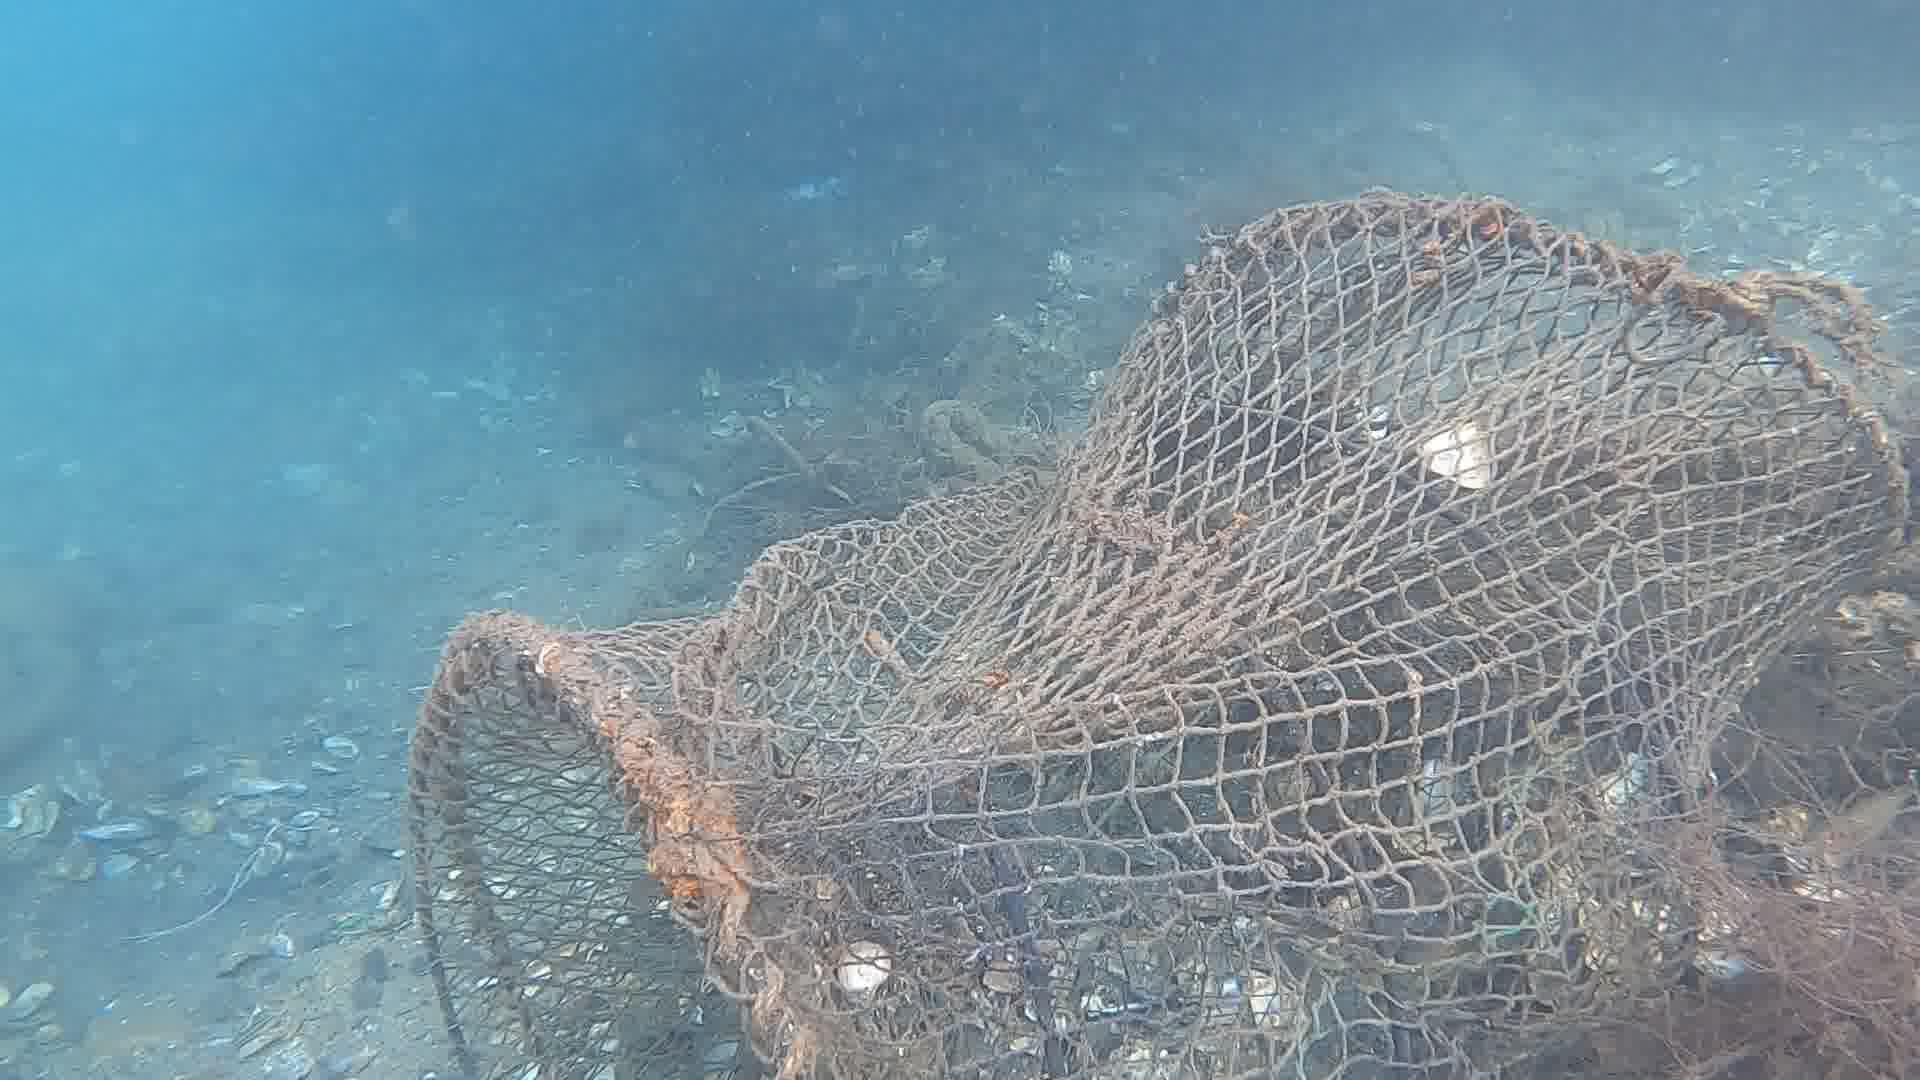spring fish trap: (398, 189, 1915, 1080)
